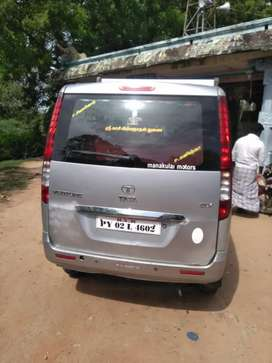PY02L4602: (96, 217, 161, 234)
